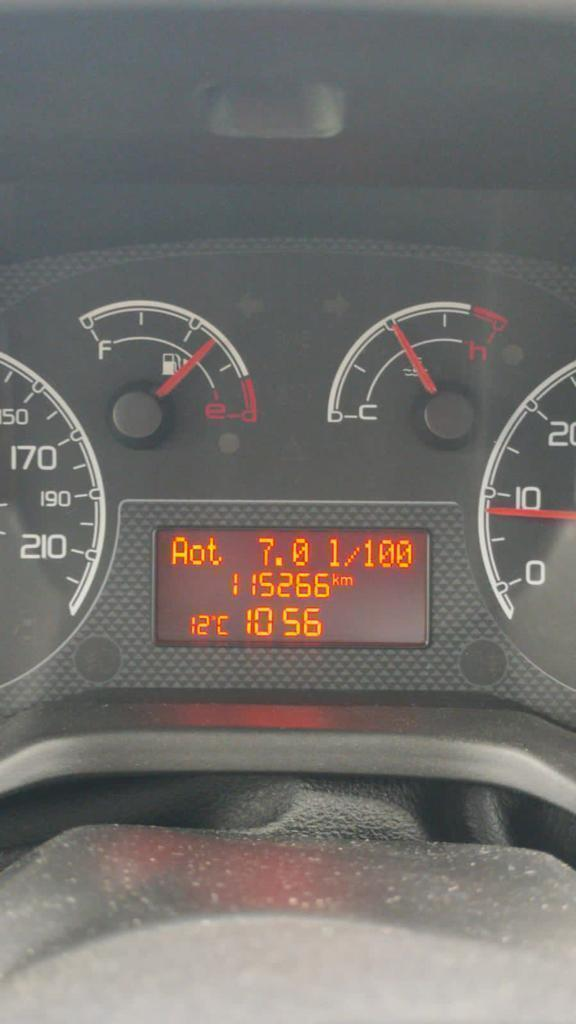,: (274, 555, 283, 566)
0: (254, 605, 274, 637), (290, 536, 310, 566), (395, 539, 413, 568), (378, 538, 395, 568)
1: (363, 538, 376, 568), (244, 607, 253, 635), (232, 572, 239, 597), (250, 573, 257, 597), (190, 615, 195, 636)
2: (276, 571, 293, 598), (197, 614, 210, 635)
5: (281, 606, 301, 637), (259, 571, 275, 597)
6: (302, 606, 322, 637), (313, 571, 330, 598), (295, 571, 311, 598)
7: (257, 536, 274, 567)
X: (170, 536, 188, 566), (206, 536, 224, 566), (189, 543, 206, 566), (328, 537, 341, 567), (343, 547, 361, 567), (216, 614, 229, 636), (340, 575, 353, 587), (331, 573, 340, 586)
odometer: (148, 520, 434, 649)
